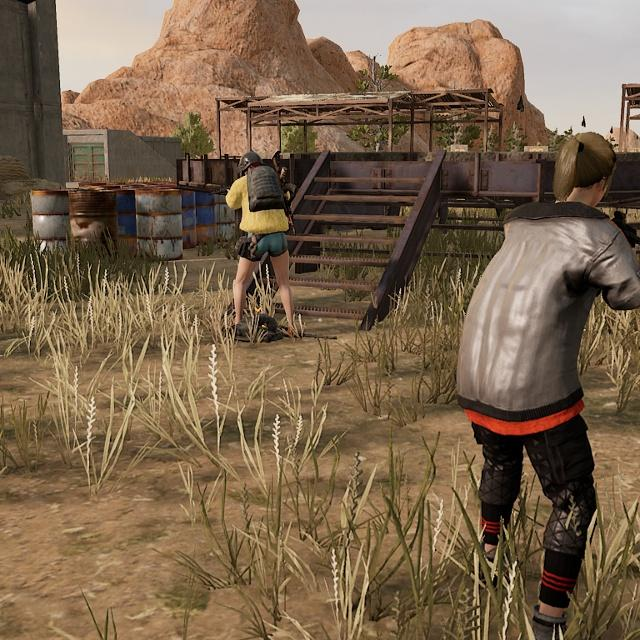head: (555, 128, 621, 212), (236, 150, 266, 179)
people: (455, 127, 639, 640), (224, 148, 301, 343)
